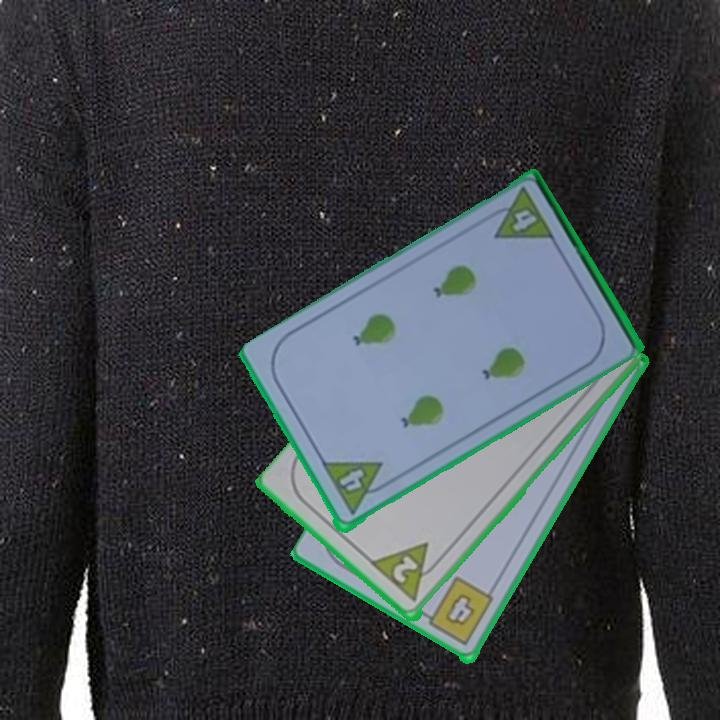2p: (389, 552, 421, 587)
4b: (417, 574, 497, 650)
4p: (318, 458, 395, 519), (480, 184, 557, 243)
